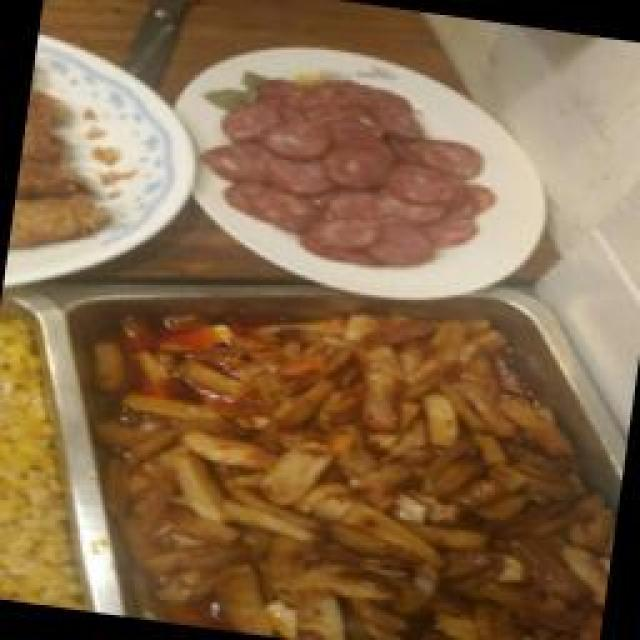chinese_sausage: (210, 65, 495, 278)
